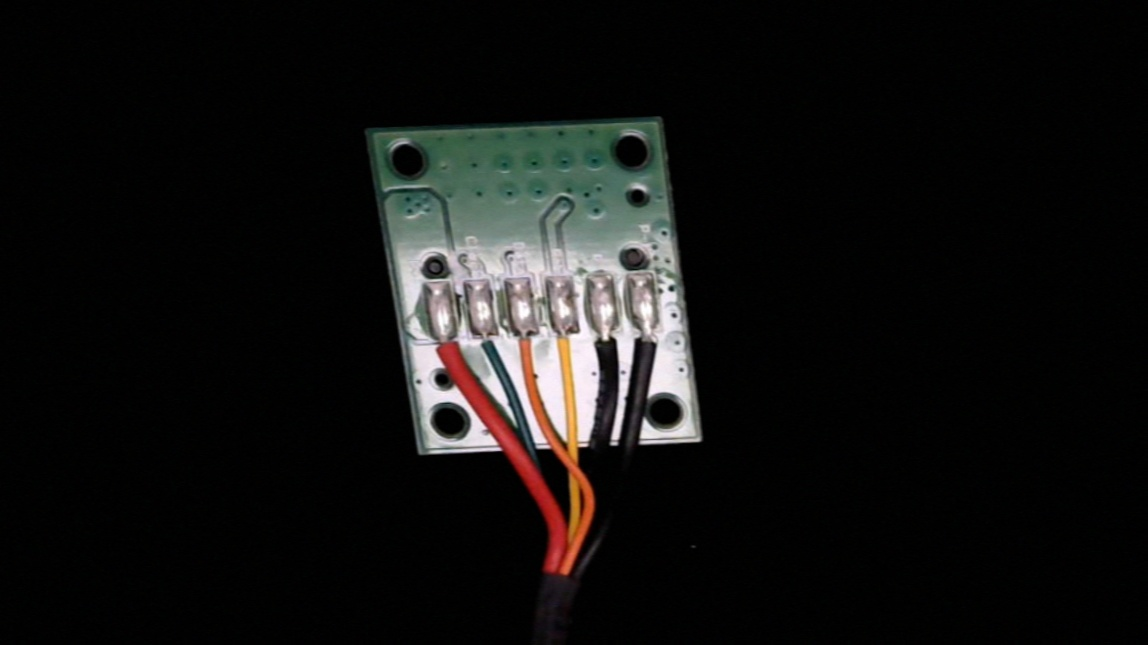Black: (586, 315, 629, 387)
Black1: (630, 311, 671, 377)
Green: (467, 317, 505, 376)
Orange: (509, 320, 548, 389)
Red: (426, 322, 469, 391)
Yellow: (548, 317, 591, 391)
